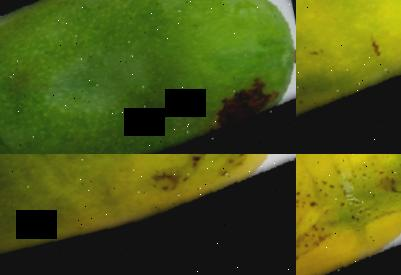PartiallyRipe: (0, 154, 296, 275), (296, 0, 401, 154)
Ripe: (296, 154, 401, 275)
Unripe: (0, 0, 296, 154)
